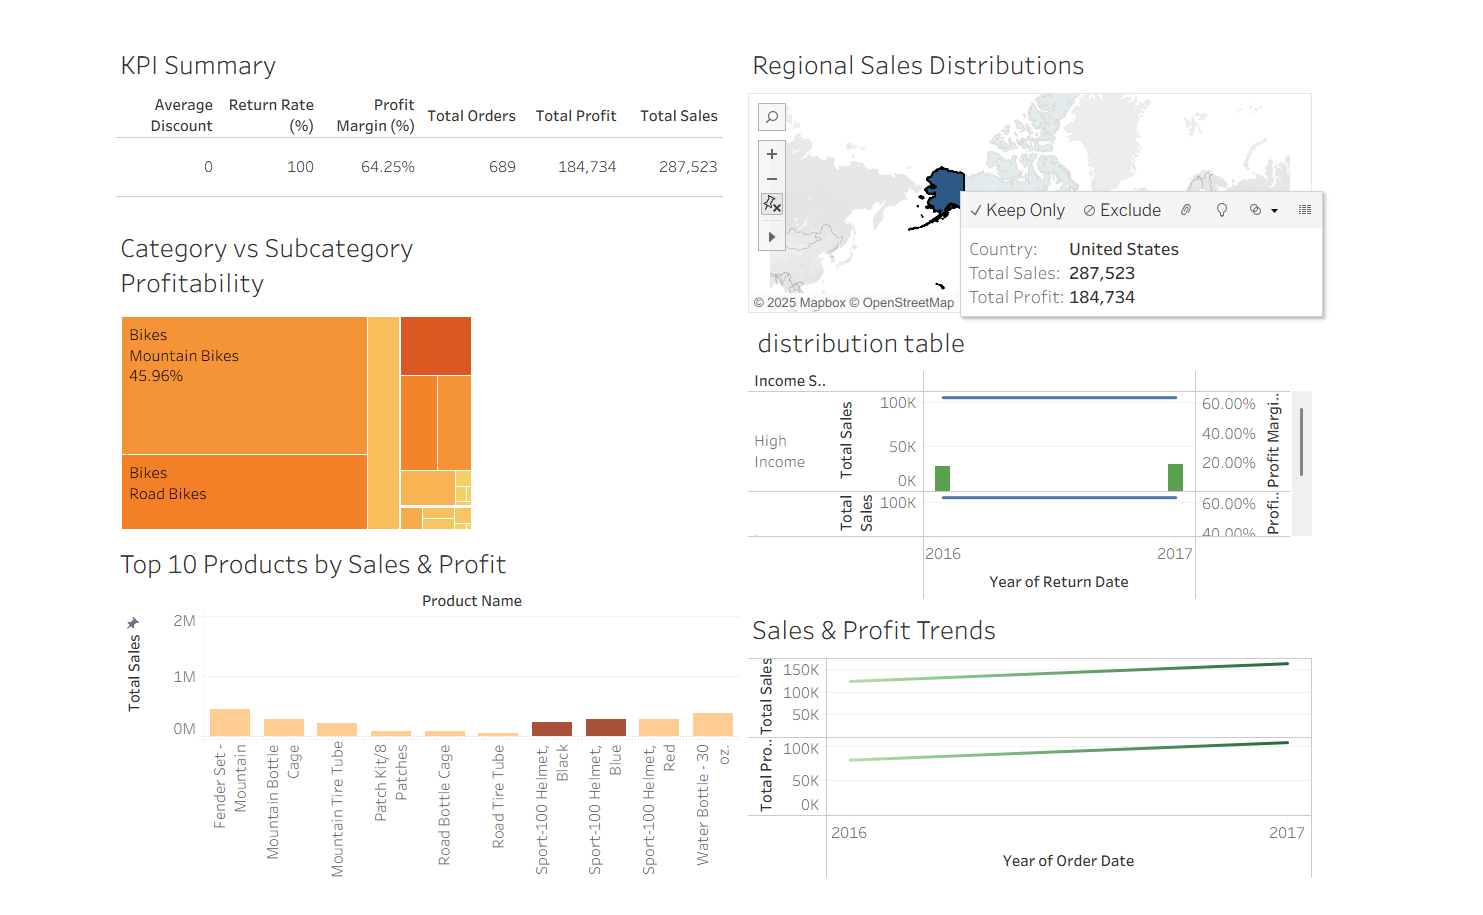

The page's visual inventory and layout, read from the dashboard file:
{"tool":"tableau","page":{"name":"Dashboard 2","canvas":[1000,1000],"units":"permille","ordinal":0},"visuals":[{"type":"worksheet","title":"KPI Summary","mark":"Automatic","box":[6.6,10,518,212]},{"type":"worksheet","title":"Regional Sales Distributions","mark":"Automatic","box":[524.6,10,468.9,322.9]},{"type":"worksheet","title":"Category vs Subcategory Profitability","mark":"Automatic","box":[6.6,222,518,367.8]},{"type":"worksheet","title":" distribution table","mark":"Automatic","rows":["Calculation_162129651341406215","Calculation_162129651328450560","Calculation_162129651328905218"],"cols":["ReturnDate"],"box":[524.6,332.9,468.9,332.9]},{"type":"worksheet","title":"Top 10 Products by Sales & Profit","mark":"Automatic","rows":["Calculation_162129651328450560"],"cols":["ProductName"],"box":[6.6,589.8,518,400.2]},{"type":"worksheet","title":"Sales & Profit Trends","mark":"Line","rows":["Calculation_162129651328450560","Calculation_162129651328724993"],"cols":["OrderDate"],"box":[524.6,665.8,468.9,324.2]}]}

Visuals, with their boxes on the dashboard's canvas, which has no fixed pixel size, in thousandths of its width and height (x1, y1, x2, y2). These are canvas units, not pixel positions in the 1483x915 screenshot, which may show the page scaled, cropped or inside an application window:
"KPI Summary" worksheet: (x1=7, y1=10, x2=525, y2=222)
"Regional Sales Distributions" worksheet: (x1=525, y1=10, x2=994, y2=333)
"Category vs Subcategory Profitability" worksheet: (x1=7, y1=222, x2=525, y2=590)
" distribution table" worksheet: (x1=525, y1=333, x2=994, y2=666)
"Top 10 Products by Sales & Profit" worksheet: (x1=7, y1=590, x2=525, y2=990)
"Sales & Profit Trends" worksheet (Line marks): (x1=525, y1=666, x2=994, y2=990)
